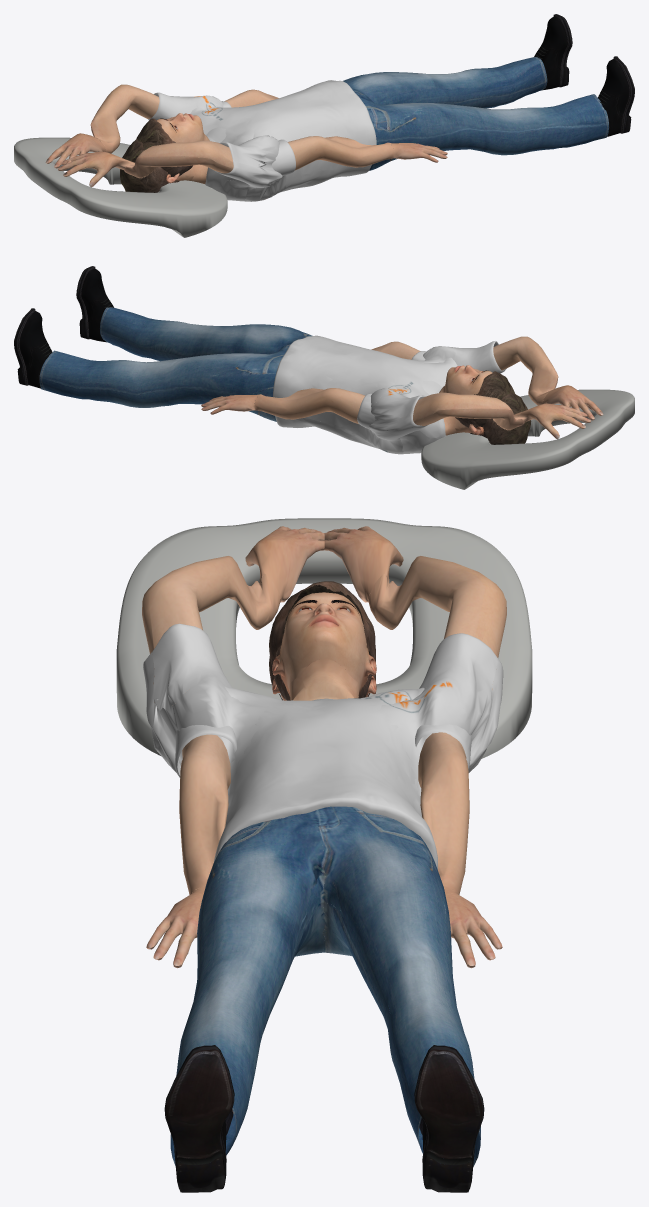
3 views of the same model, one above another, from view 1: azimuth 30°, elevation 25°; view 2: azimuth 150°, elevation 25°; view 3: azimuth 270°, elevation 25° (orthographic). The views are drawn at different scales.
Visible parts, largest first — view 1: Human.male_casualsuit06, IQSPECT_Arm_Support, Human.001, Human.male_casualsuit06.001, Human, Human.shoes03, Human.short02, Human.short02.001; view 2: Human.male_casualsuit06, IQSPECT_Arm_Support, Human.001, Human.male_casualsuit06.001, Human, Human.shoes03, Human.short02, Human.short02.001; view 3: Human.male_casualsuit06, Human.001, IQSPECT_Arm_Support, Human.male_casualsuit06.001, Human, Human.shoes03, Human.short02.001.
Part boxes in pixels (x1=…): Human.male_casualsuit06: x1=190, y1=57, x2=608, y2=201; IQSPECT_Arm_Support: x1=14, y1=137, x2=227, y2=237; Human.001: x1=45, y1=84, x2=233, y2=187; Human.male_casualsuit06.001: x1=148, y1=58, x2=606, y2=201; Human: x1=166, y1=89, x2=447, y2=183; Human.shoes03: x1=534, y1=14, x2=634, y2=136; Human.short02: x1=120, y1=139, x2=179, y2=192; Human.short02.001: x1=136, y1=118, x2=192, y2=176; Human.male_casualsuit06: x1=39, y1=307, x2=457, y2=453; IQSPECT_Arm_Support: x1=421, y1=389, x2=634, y2=489; Human.001: x1=413, y1=336, x2=603, y2=439; Human.male_casualsuit06.001: x1=39, y1=310, x2=506, y2=454; Human: x1=201, y1=341, x2=484, y2=435; Human.shoes03: x1=14, y1=266, x2=113, y2=388; Human.short02: x1=470, y1=392, x2=531, y2=444; Human.short02.001: x1=455, y1=371, x2=514, y2=428; Human.male_casualsuit06: x1=170, y1=686, x2=480, y2=1166; Human.001: x1=142, y1=526, x2=506, y2=702; IQSPECT_Arm_Support: x1=116, y1=518, x2=532, y2=758; Human.male_casualsuit06.001: x1=143, y1=623, x2=503, y2=1155; Human: x1=146, y1=674, x2=502, y2=1113; Human.shoes03: x1=164, y1=1045, x2=484, y2=1192; Human.short02.001: x1=269, y1=581, x2=375, y2=700.
Bounding box in the file's own units: 2.05 × 0.3424 × 0.6649.
Materials: 13 (12 with a texture image).
